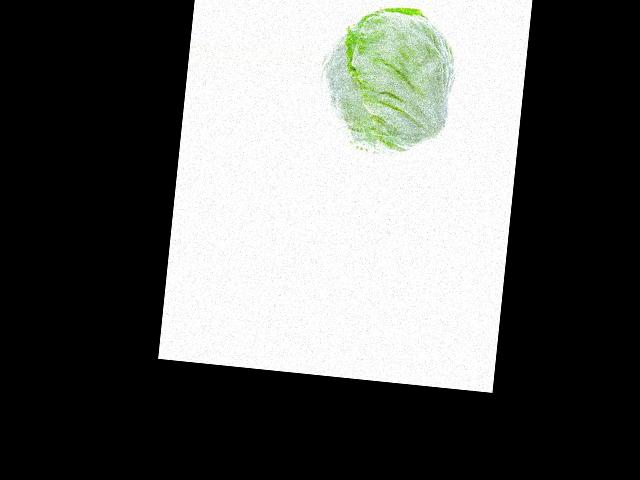lettuce: (341, 13, 453, 125)
